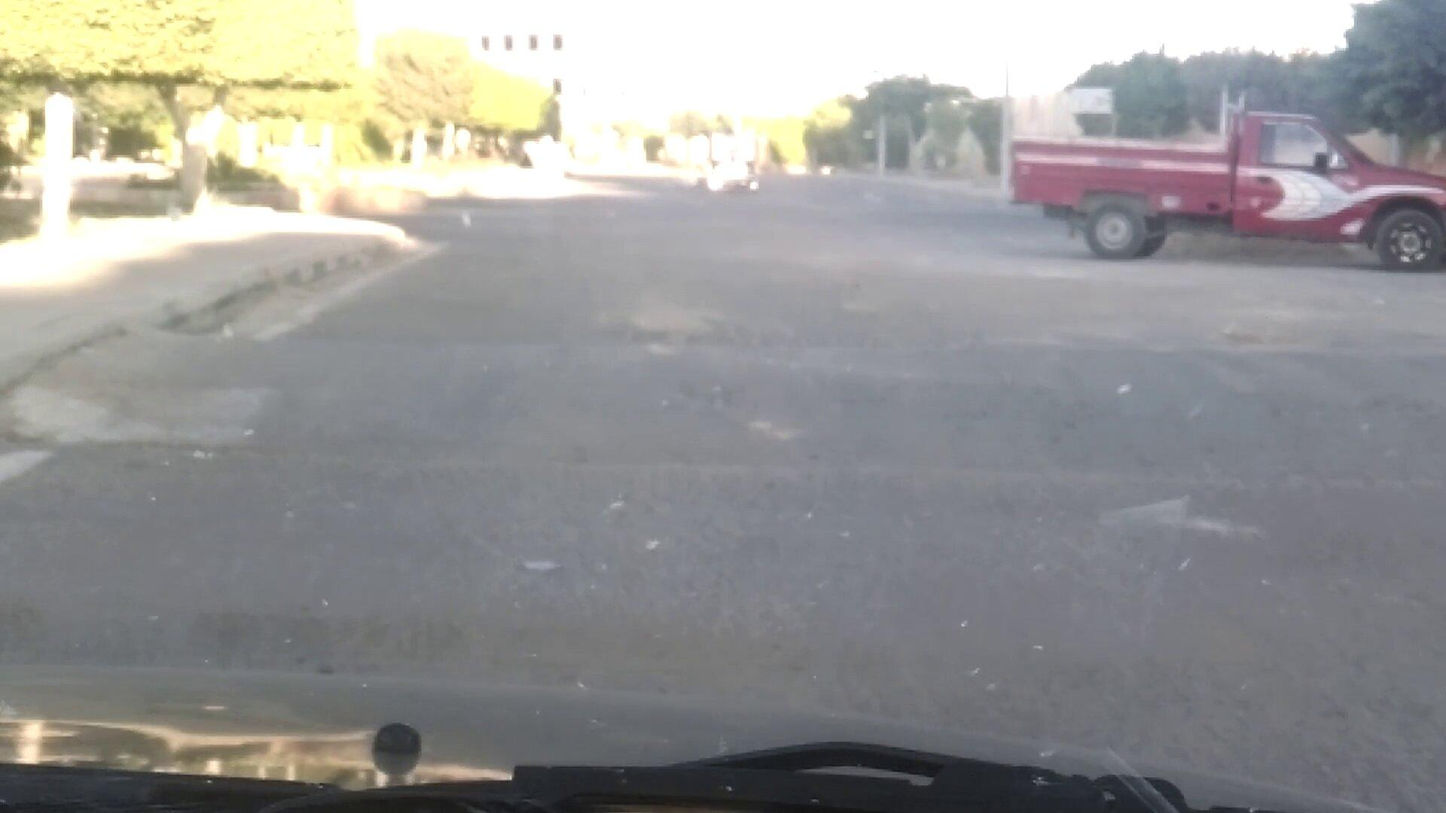Bump: (164, 294, 1446, 501)
